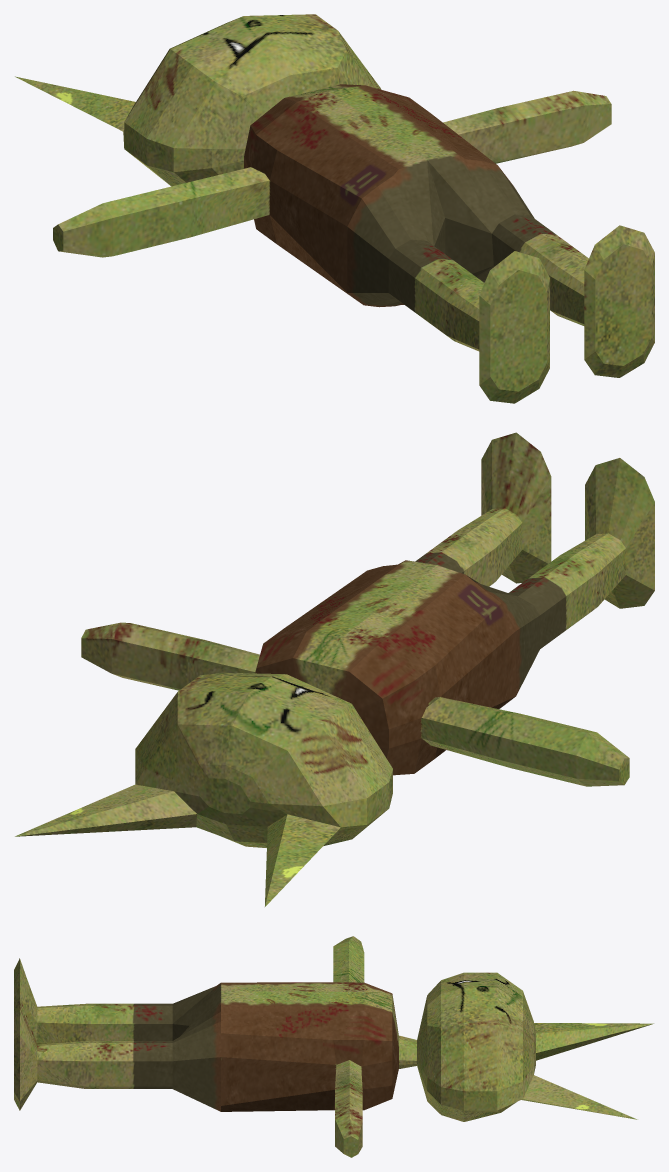
The model's file is GOBLIN.obj.
3 views of the same model, one above another, from view 1: azimuth 30°, elevation 25°; view 2: azimuth 150°, elevation 25°; view 3: azimuth 270°, elevation 25° (orthographic). The views are drawn at different scales.
Parts seen in each view (by area): view 1: Plane.000_Plane.000; view 2: Plane.000_Plane.000; view 3: Plane.000_Plane.000.
Boxes of the visible parts, left/top/right/bottom form: Plane.000_Plane.000: left=15, top=14, right=654, bottom=403; Plane.000_Plane.000: left=15, top=432, right=654, bottom=906; Plane.000_Plane.000: left=14, top=936, right=653, bottom=1157.
Bounding box in the file's own units: 2.93 × 0.8864 × 4.03.
Materials: 1 (1 with a texture image).
